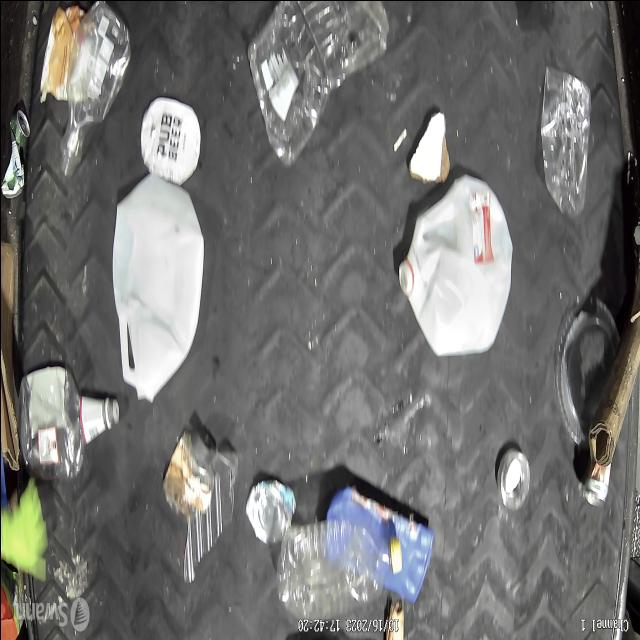can: (0, 103, 30, 204), (492, 440, 534, 512)
milk_jug: (110, 176, 204, 404), (396, 171, 510, 355)
plastic_bottle: (276, 517, 402, 621)
